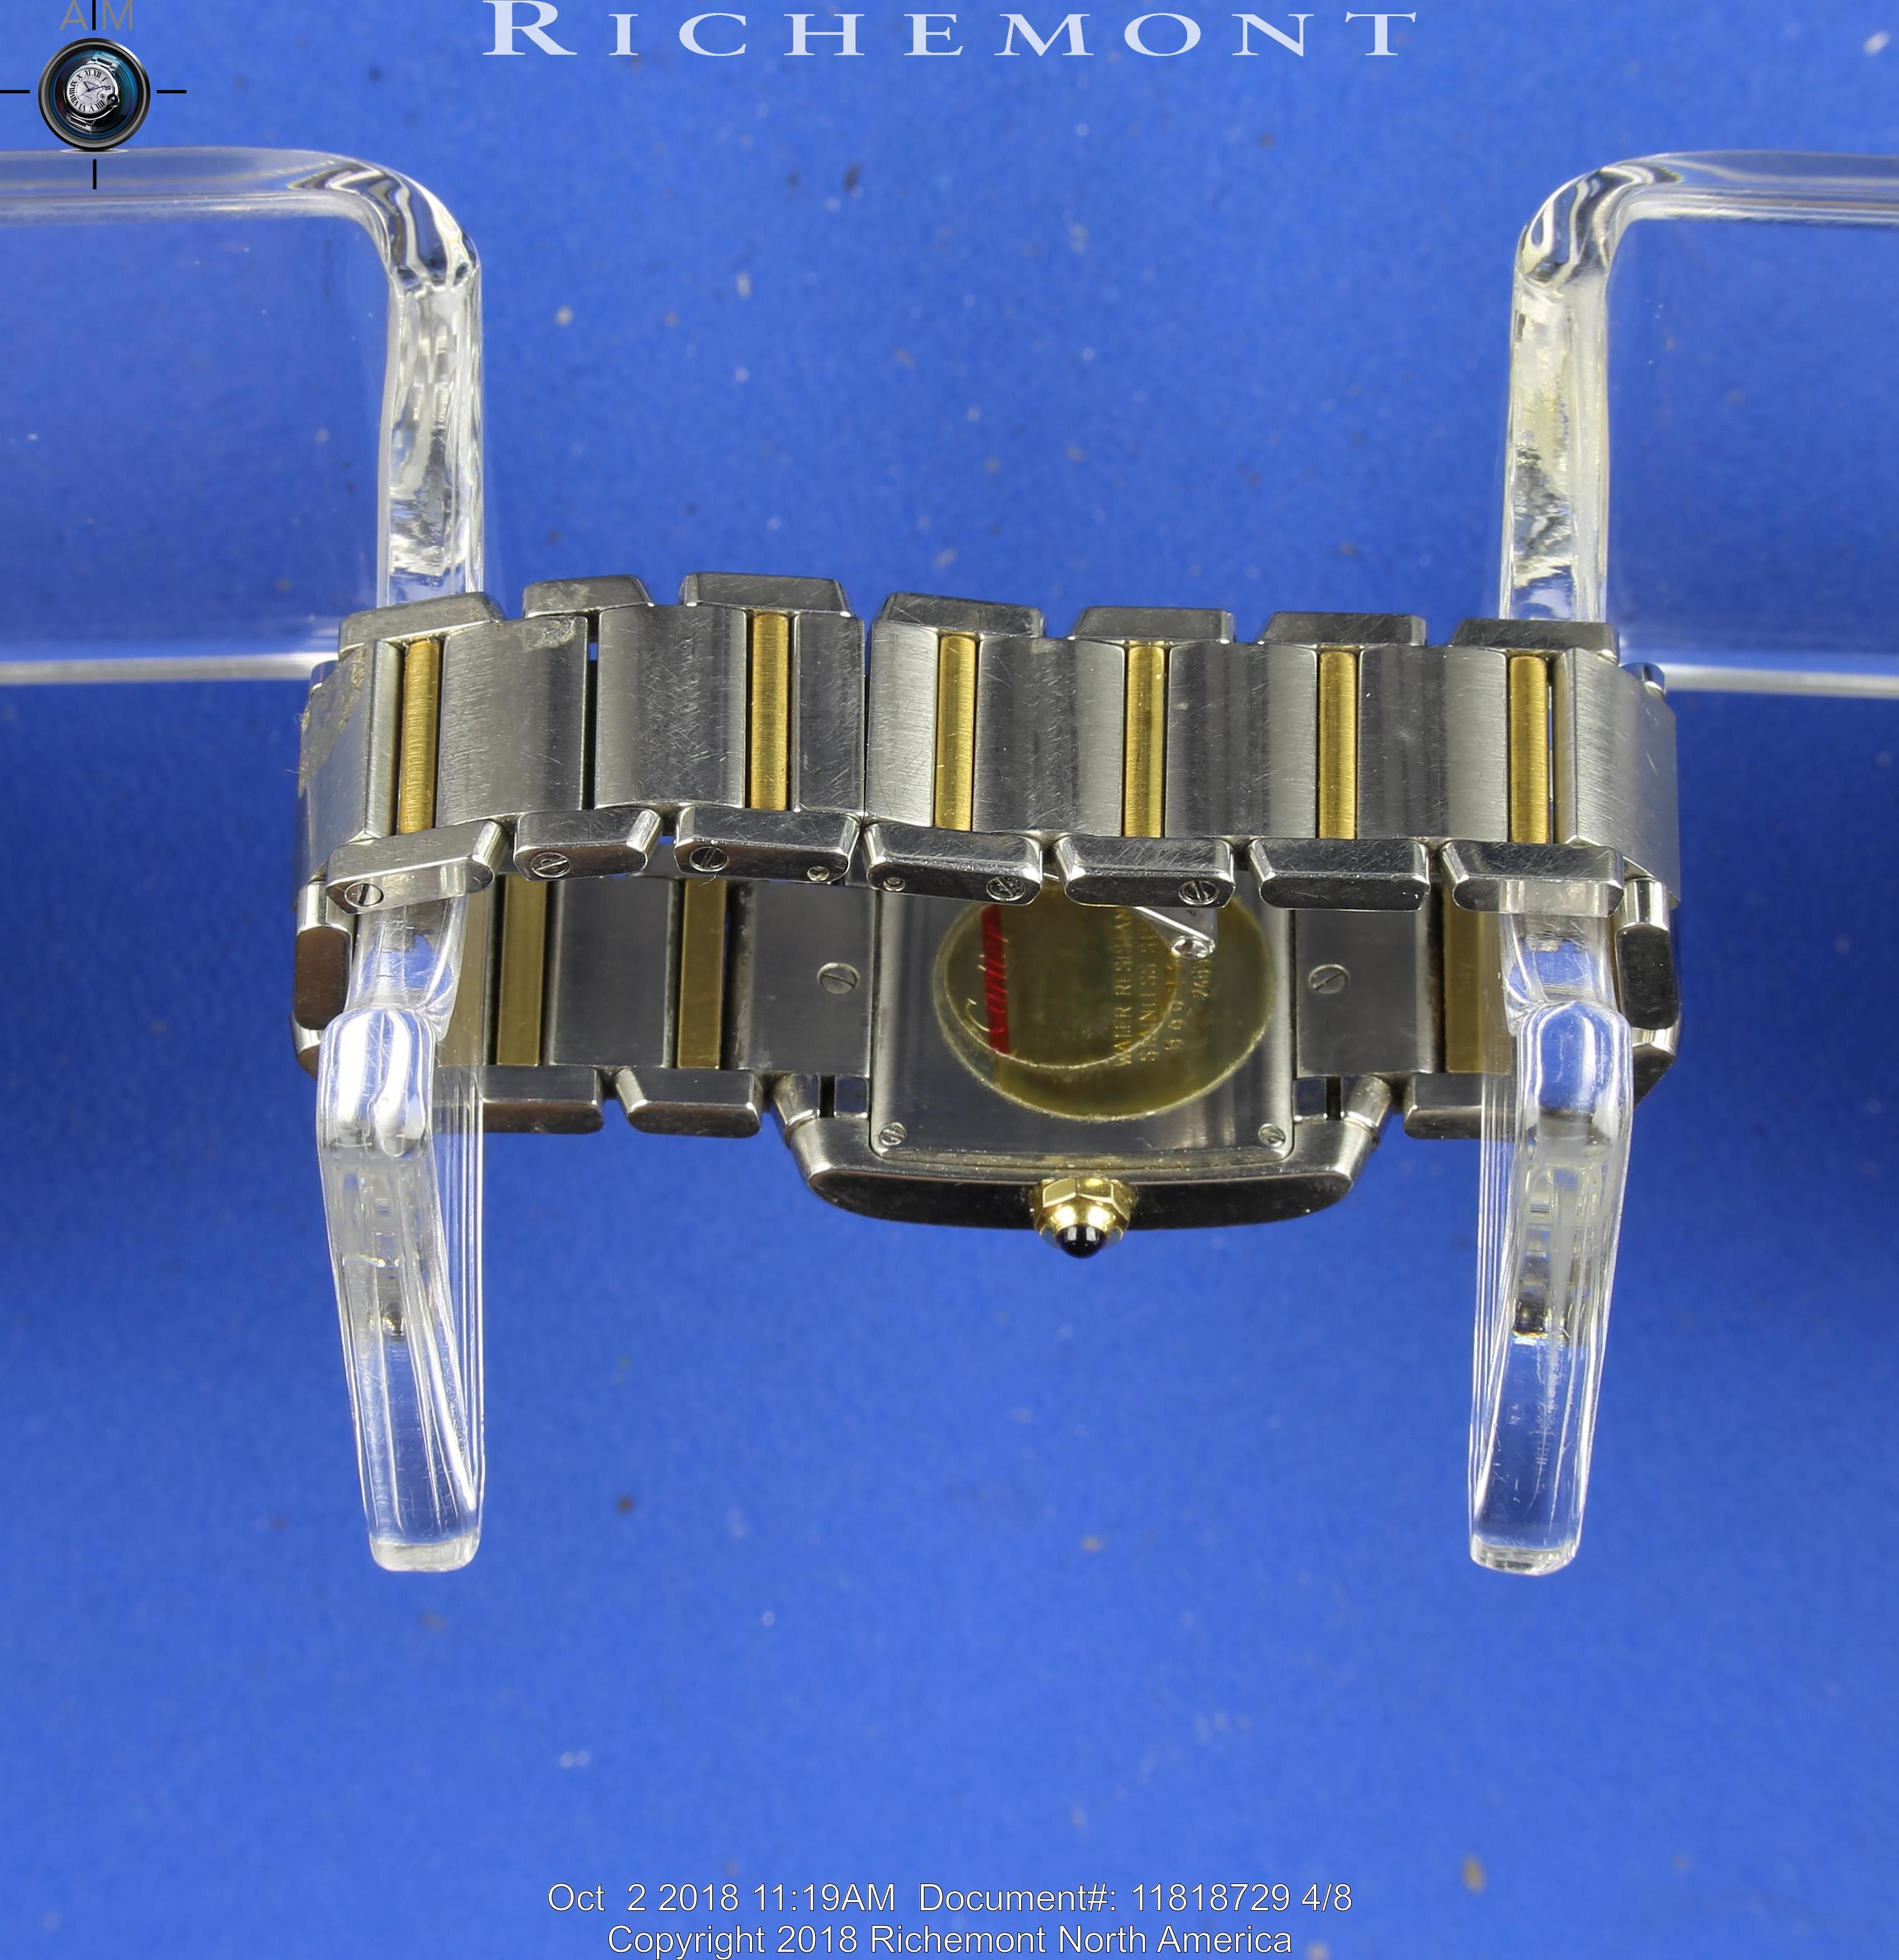watchback: (789, 801, 1390, 1179)
